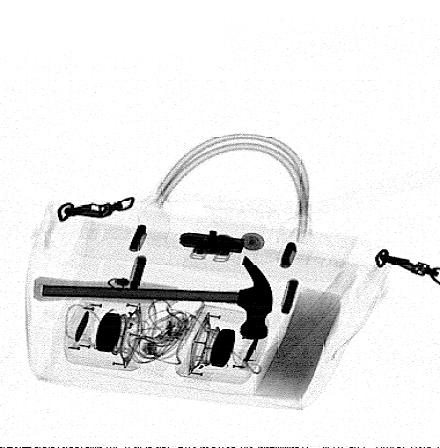Hammer: (32, 254, 274, 340)
